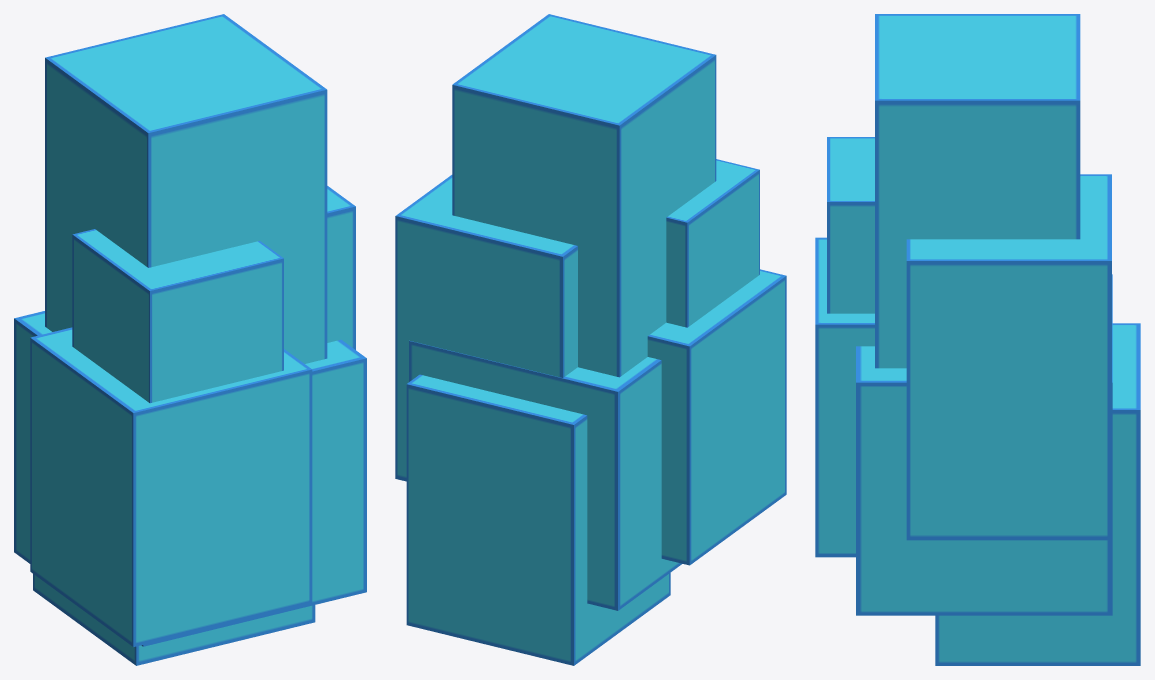
File: Spawn.obj
The picture shows the model from 3 angles, left to right: view 1: azimuth 30°, elevation 25°; view 2: azimuth 150°, elevation 25°; view 3: azimuth 270°, elevation 25°; orthographic projection. The views are drawn at different scales.
Visible parts, largest first — view 1: Cube.005; view 2: Cube.005; view 3: Cube.005.
Part boxes in pixels (left/top/right/bottom): Cube.005: left=14, top=14, right=366, bottom=665; Cube.005: left=395, top=14, right=786, bottom=665; Cube.005: left=815, top=14, right=1140, bottom=665.
Bounding box in the file's own units: 6 × 11.95 × 6.34.
